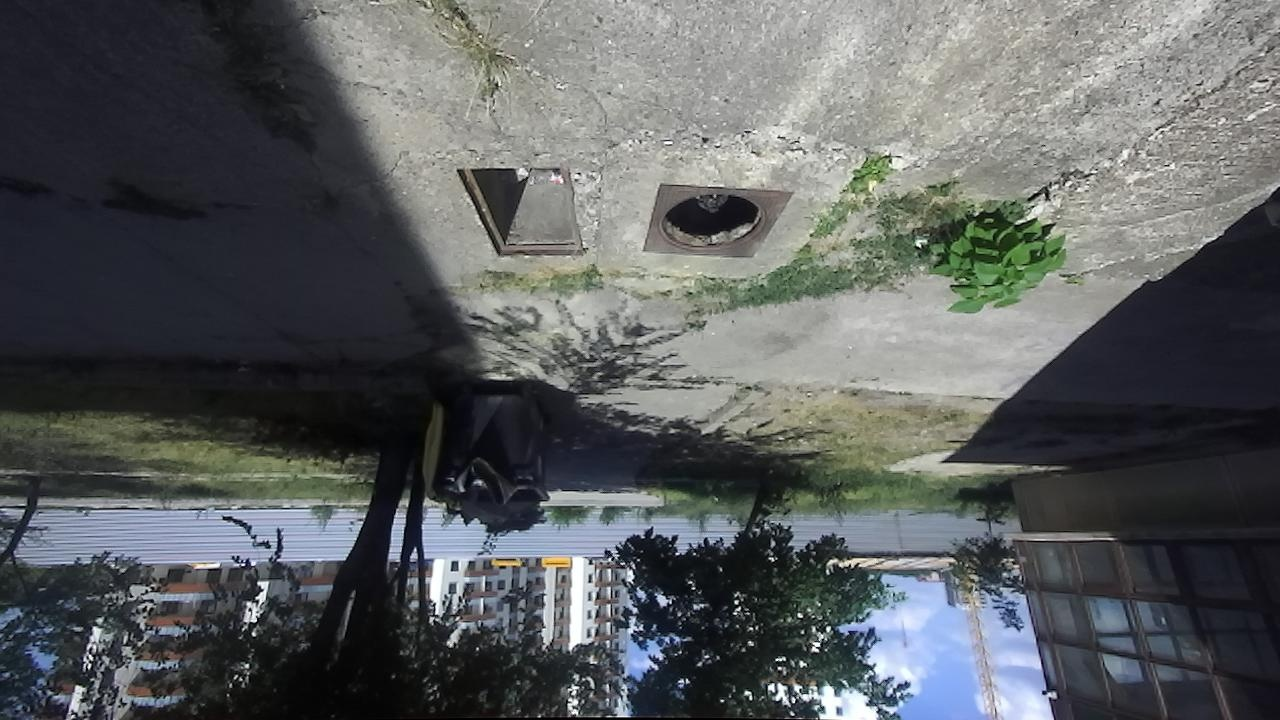drain: (454, 158, 589, 264), (656, 188, 772, 253)
